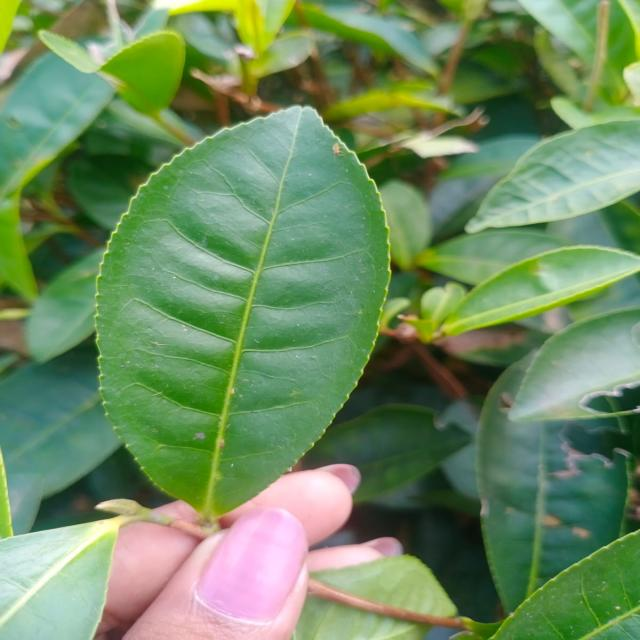Category D(7+ days, Not for Tea): (78, 62, 430, 559)
